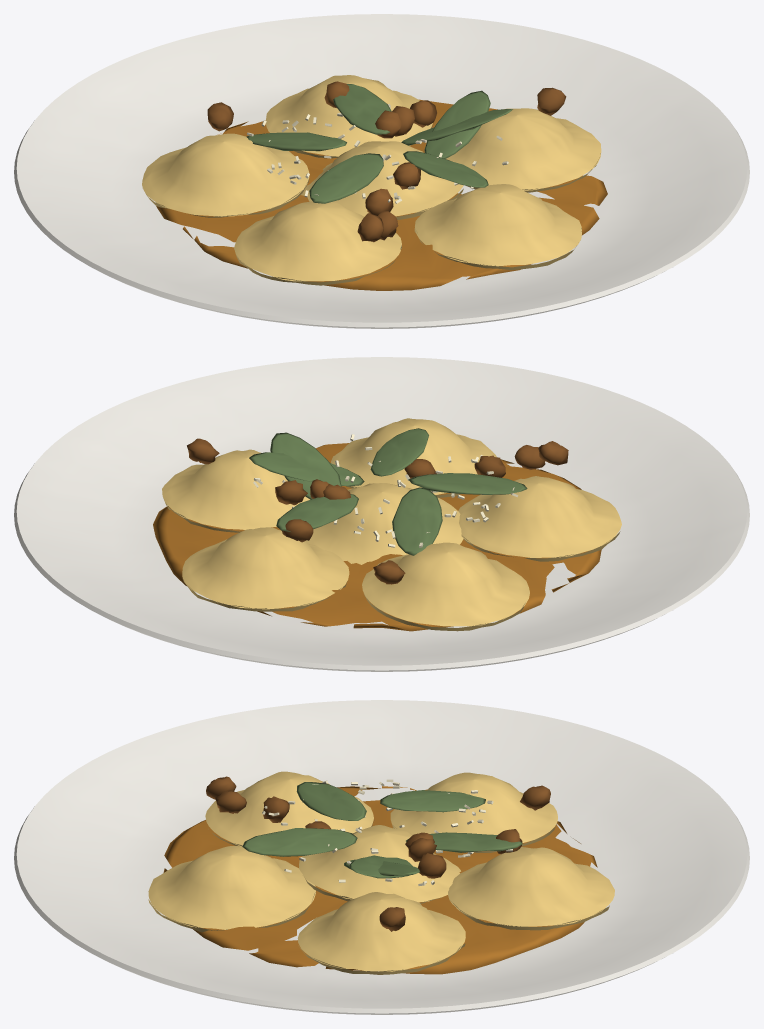
File: sorrentinos-calabaza.glb
3 views of the same model, one above another, from view 1: azimuth 30°, elevation 25°; view 2: azimuth 150°, elevation 25°; view 3: azimuth 270°, elevation 25° (orthographic).
Visible parts, largest first — view 1: sorrentinos-calabaza; view 2: sorrentinos-calabaza; view 3: sorrentinos-calabaza.
Part boxes in pixels (bbox=[...]): sorrentinos-calabaza: bbox=[14, 14, 749, 328]; sorrentinos-calabaza: bbox=[14, 357, 749, 671]; sorrentinos-calabaza: bbox=[14, 700, 749, 1014].
Size of the model in its own units: 0.272 by 0.0398 by 0.272.
